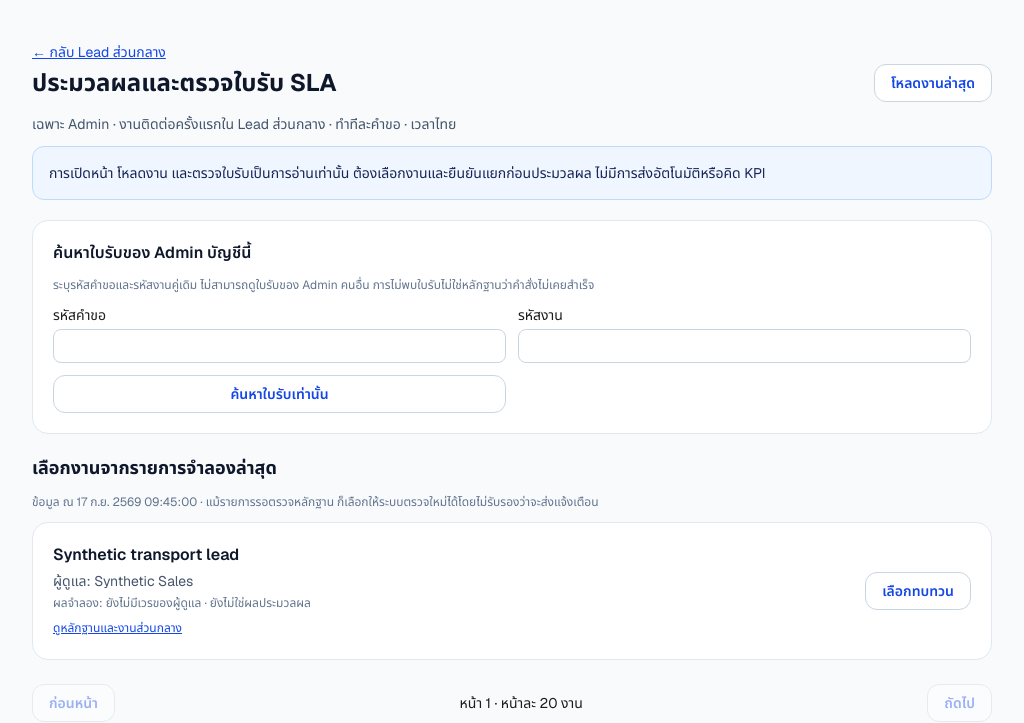
Test: real UI → clients → HTTP handlers with isolated fake RPC transport › keeps receipt GET recovery available with the seventh processing switch off
The image size is (1024, 723).
Click the button "เลือกทบทวน": [918, 591] box [865,572,971,610]
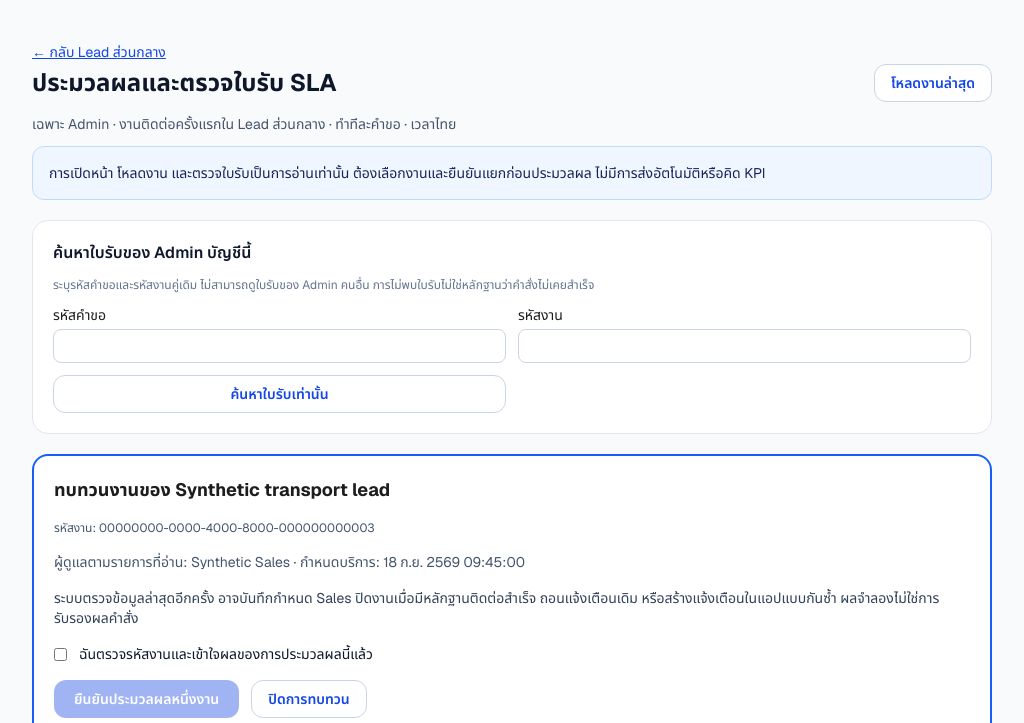
Now the button "ยืนยันประมวลผลหนึ่งงาน" is disabled, box [54,680,239,718]
Click the checkbox labelled "ฉันตรวจรหัสงานและเข้าใจผลของการประมวลผลนี้แล้ว": [60, 654] box [54,648,67,661]
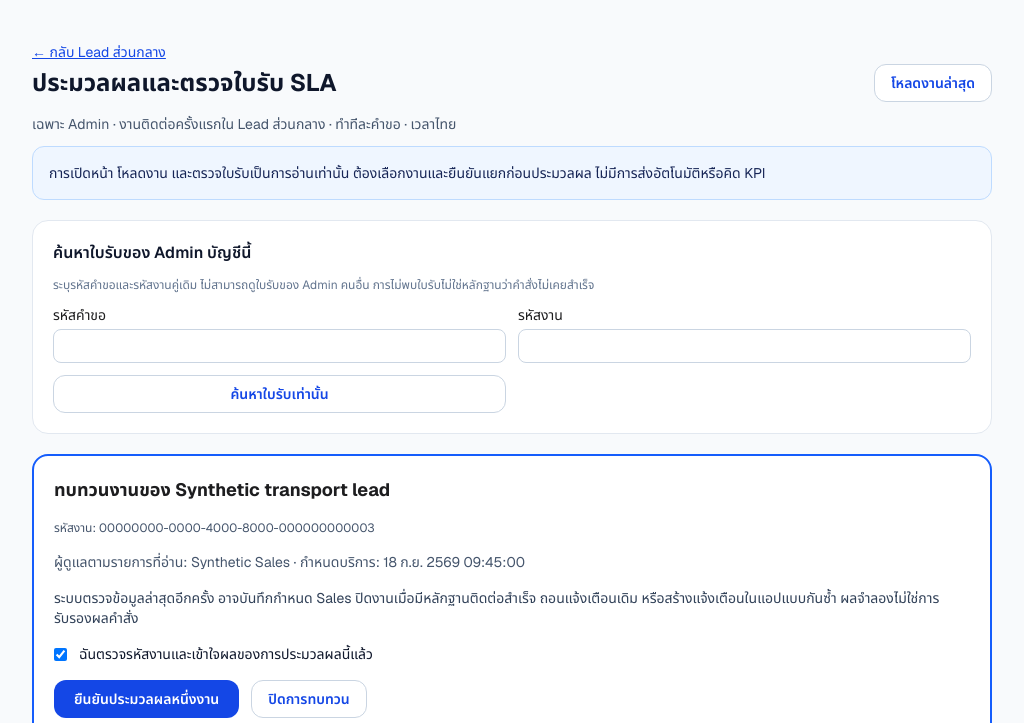
Now the button "ยืนยันประมวลผลหนึ่งงาน" is enabled
Click the button "ยืนยันประมวลผลหนึ่งงาน": [147, 699] box [54,680,239,718]
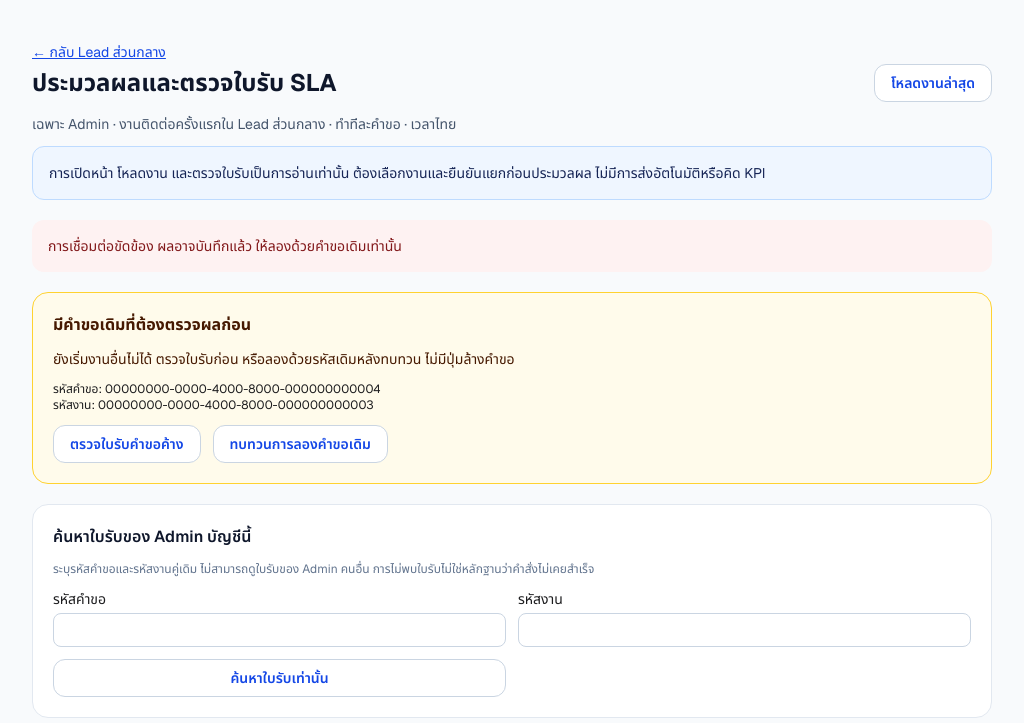
Now the message "การเชื่อมต่อขัดข้อง ผลอาจบันทึกแล้ว ให้ลองด้วยคำขอเดิมเท่านั้น" is shown, box [32,220,992,272]
Now the element named "คำขอค้างในแท็บ" is shown, box [32,292,992,484]
Click the button "โหลดงานล่าสุด": [933, 83] box [874,64,992,102]
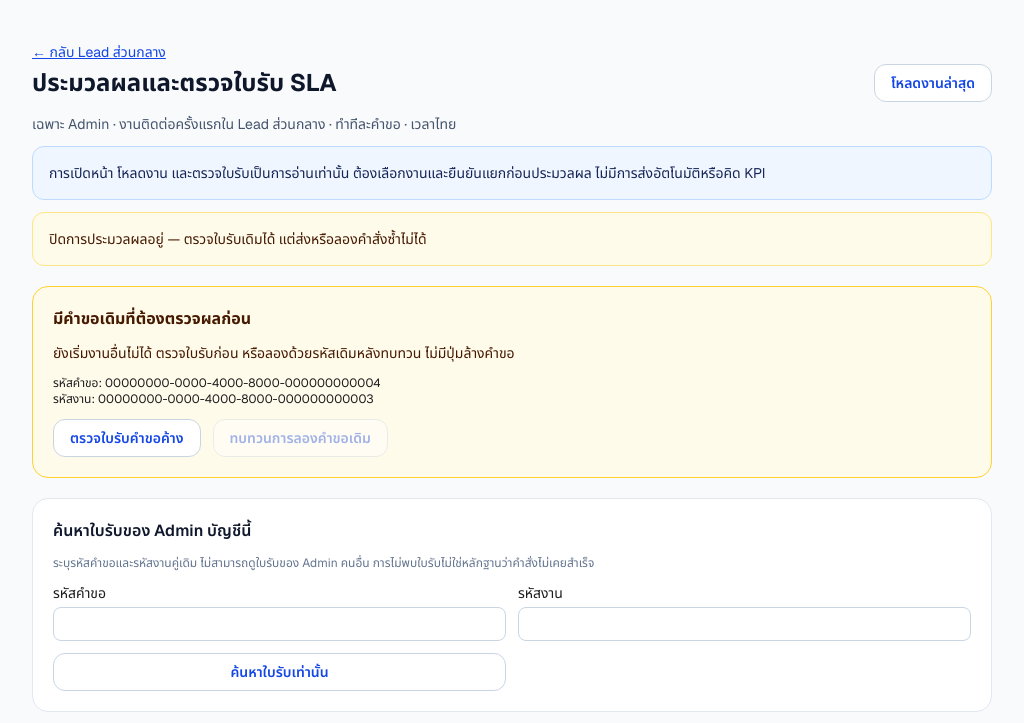
Now the button "ตรวจใบรับคำขอค้าง" is enabled
Now the text "ปิดการประมวลผลอยู่ — ตรวจใบรับเดิมได้ แต่ส่งหรือลองคำสั่งซ้ำไม่ได้" is shown, box [32,212,992,266]
Now the button "ทบทวนการลองคำขอเดิม" is disabled, box [212,419,388,457]
Click the button "ตรวจใบรับคำขอค้าง": [127, 438] box [53,419,200,457]
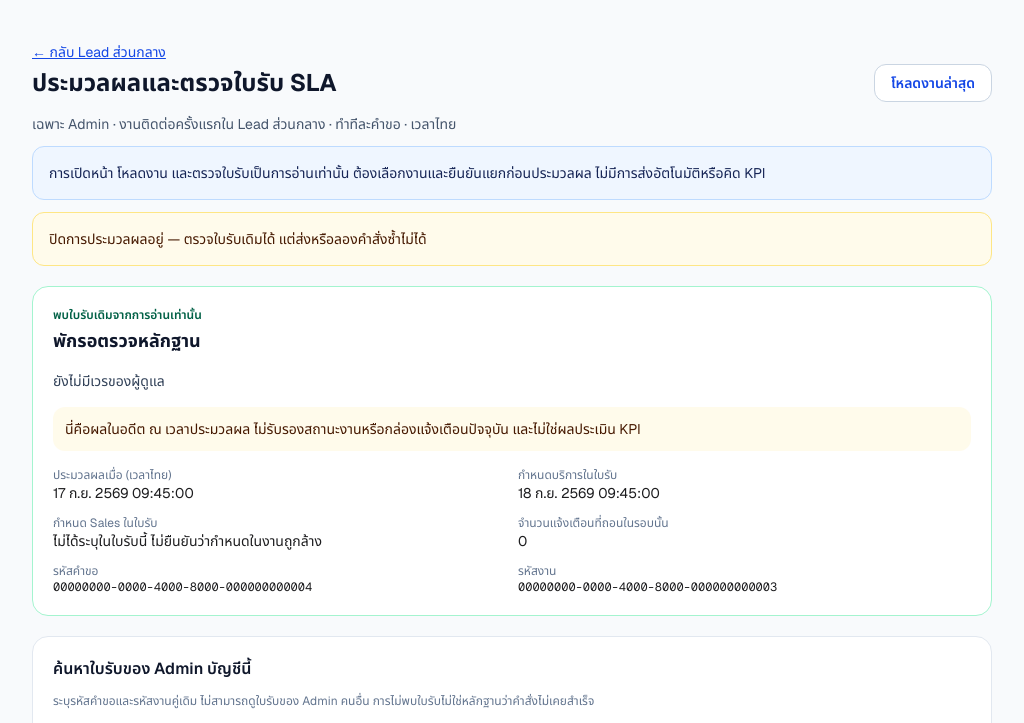
Now the text "พบใบรับเดิมจากการอ่านเท่านั้น" is shown, box [53,307,202,323]
